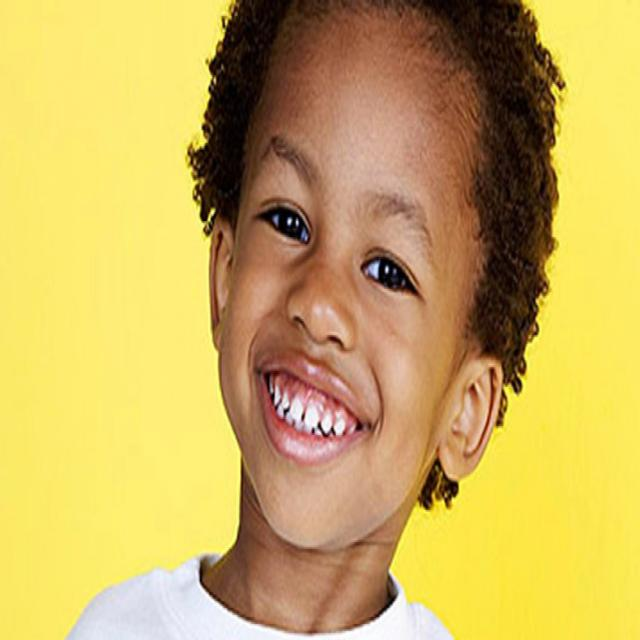child: (62, 0, 564, 640)
